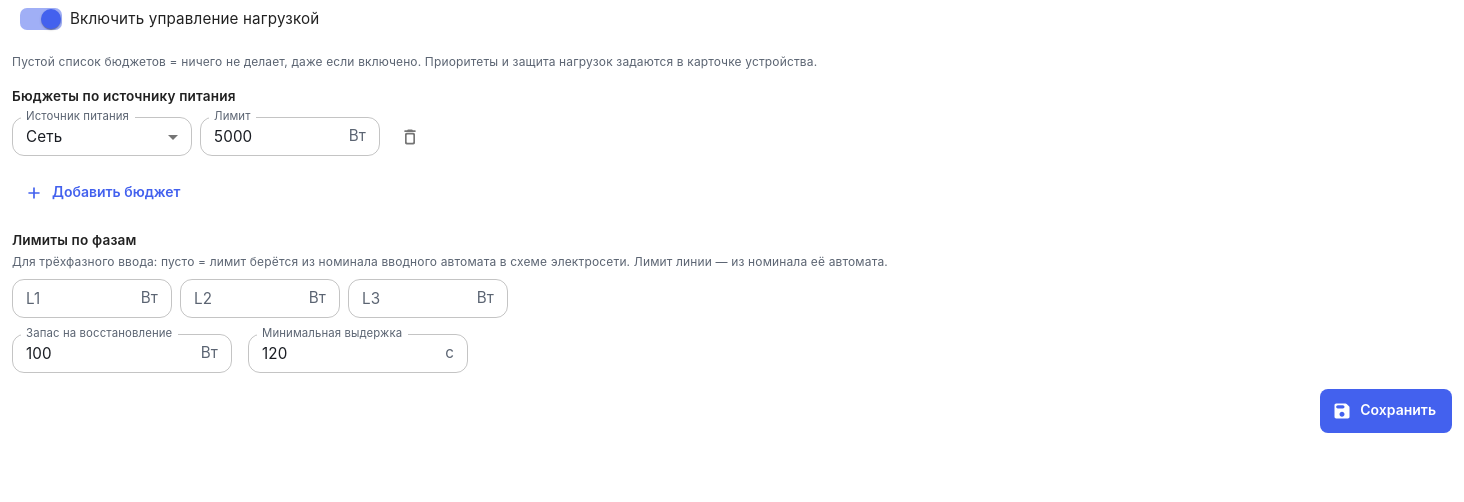
Test: LoadManagementEditor › adds a new budget row for an unused power source
This screenshot has width=1464, height=502.
expect the number field showing "5000" is shown: met, box left=200, top=117, right=341, bottom=156
Click the button "Добавить бюджет": click(104, 192) left=12, top=170, right=196, bottom=214
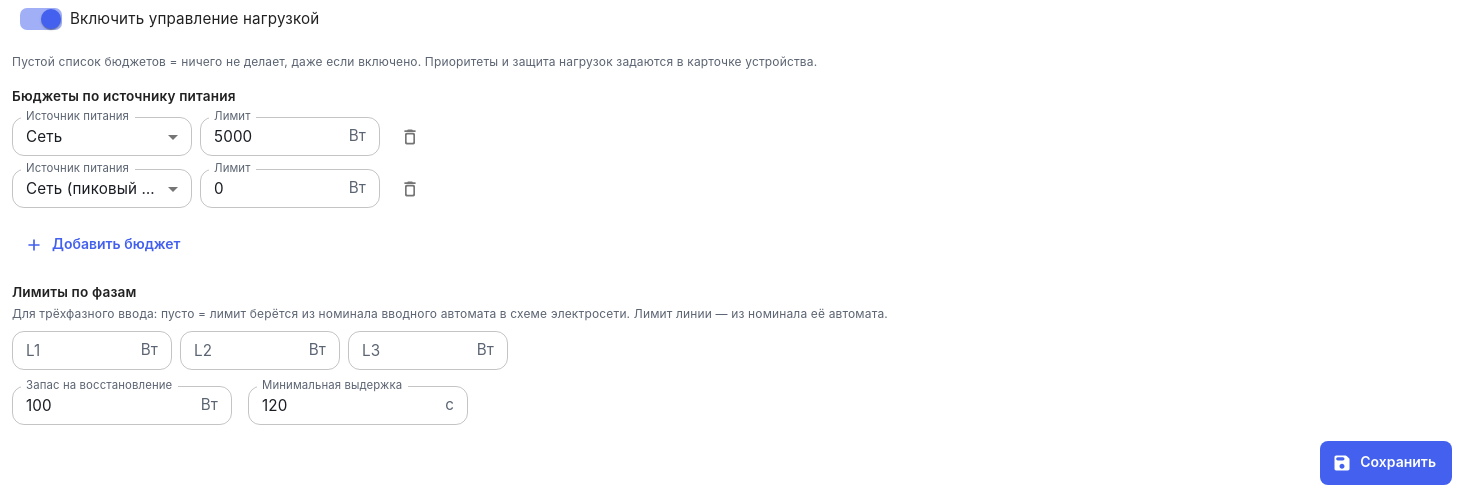
expect the number field showing "0" next to "Сеть (пиковый тариф)" is shown: met, box left=200, top=169, right=341, bottom=208
